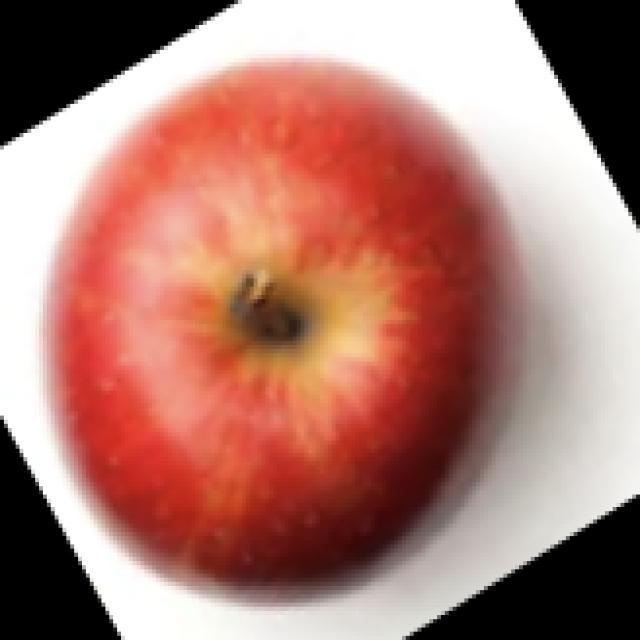Fresh Apple: (56, 43, 512, 595)
